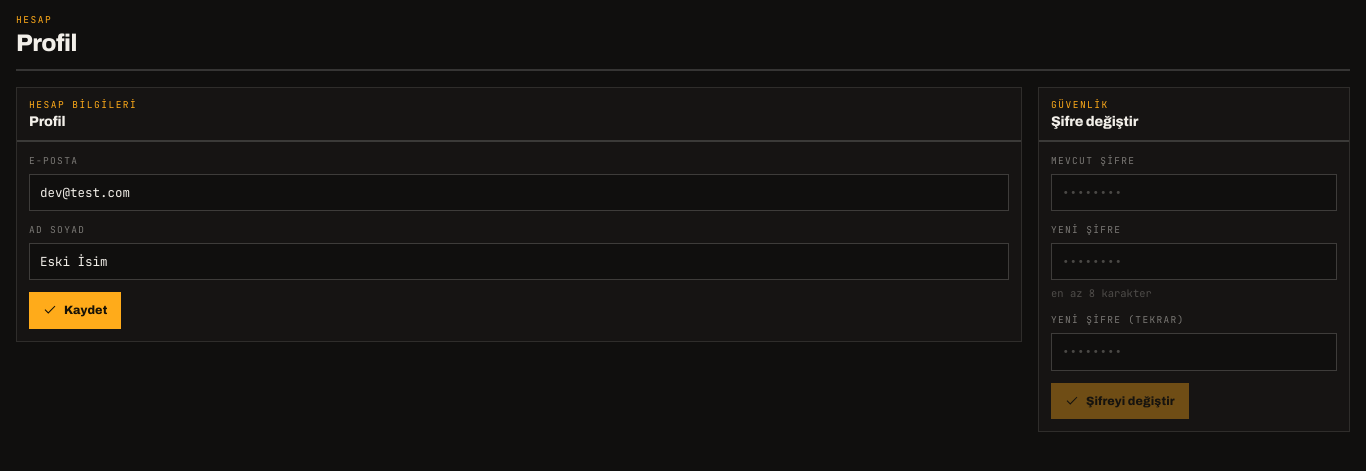
it: ProfilePage › yeni sifreler eslesmezse degistir butonu disabled kalir, API cagrilmaz
This screenshot has width=1366, height=471.
Type "eskiSifre123" into the password field with placeholder "••••••••" at coordinates (1194, 192), box 1051,174 -> 1337,211
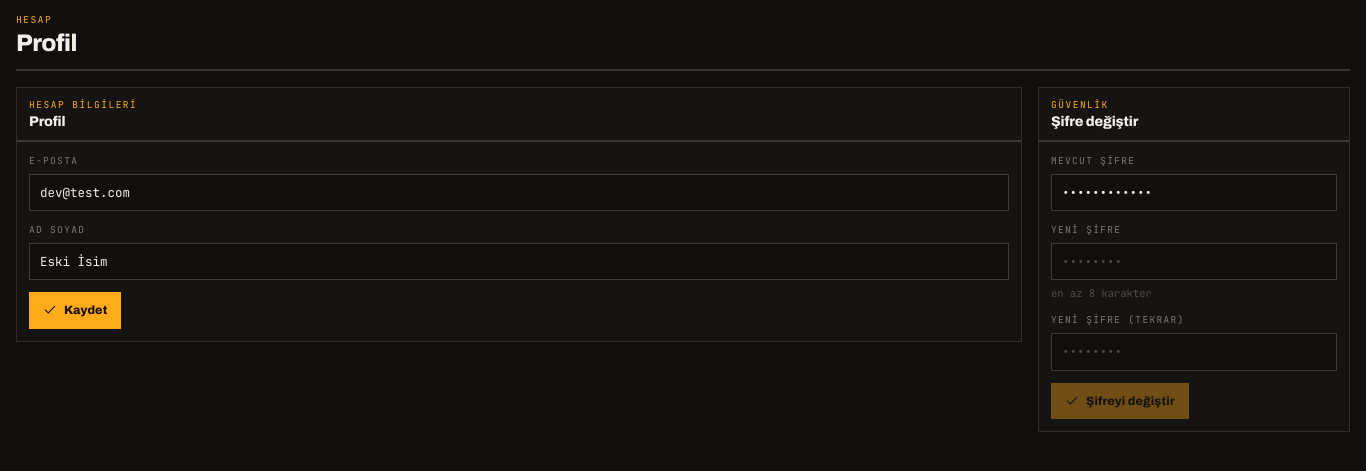
Type "yeniSifre123" into the password field with placeholder "••••••••" at coordinates (1194, 262), box 1051,243 -> 1337,280
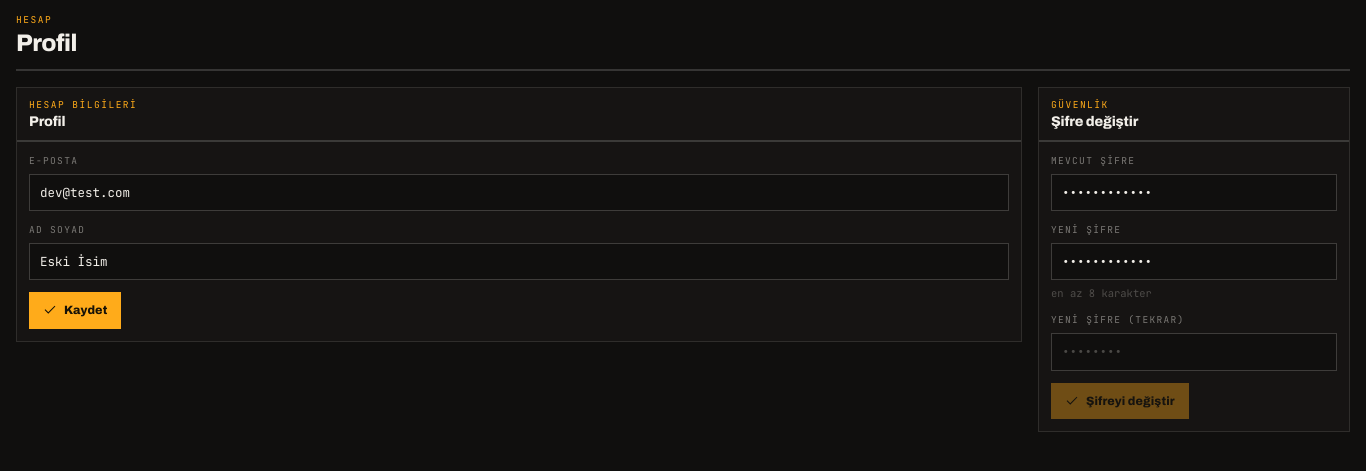
Type "farkli-sifre" into the password field with placeholder "••••••••" at coordinates (1194, 352), box 1051,333 -> 1337,370
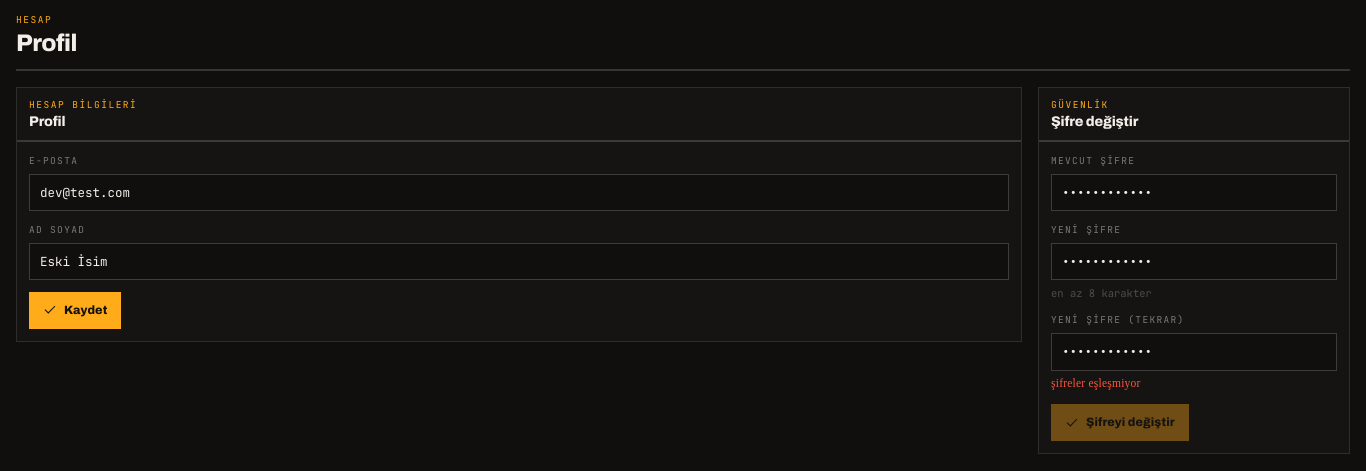
Expected: the button "Şifreyi değiştir" is disabled, 1051,404 -> 1189,441
Result: the text "şifreler eşleşmiyor" is shown at 1051,376 -> 1141,388
